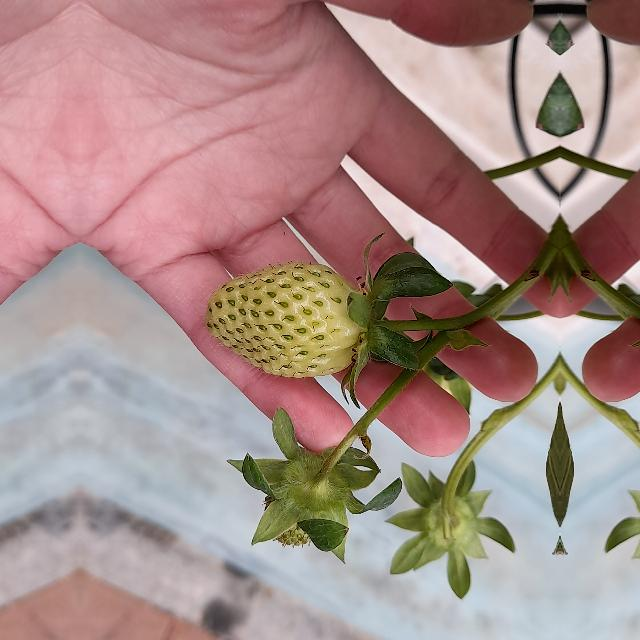Health_25: (204, 260, 362, 378)
